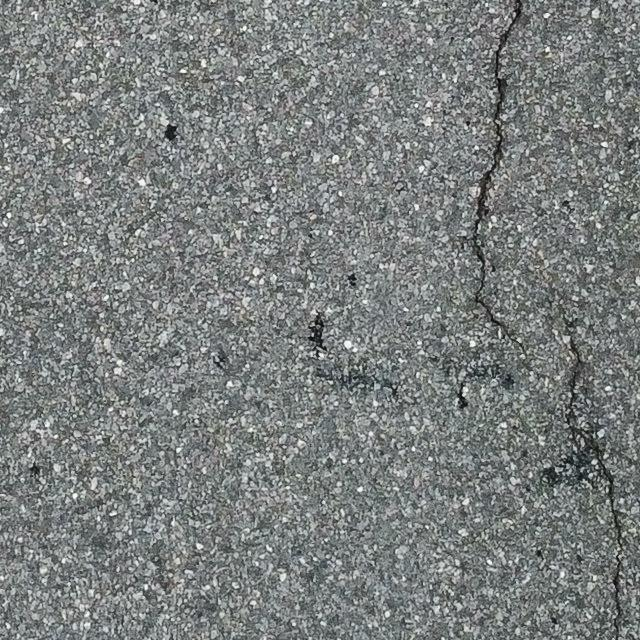LongitudinalCrack: (472, 1, 529, 357), (564, 329, 622, 640)
